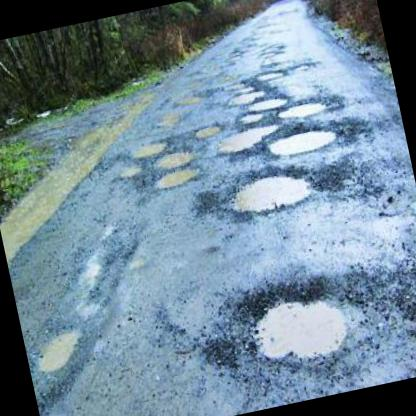pothole: (231, 270, 354, 374), (223, 164, 315, 219), (28, 323, 87, 374), (262, 122, 340, 158), (148, 162, 202, 192), (274, 96, 328, 122), (244, 92, 290, 115), (154, 146, 192, 170), (127, 137, 167, 158), (226, 88, 266, 106), (191, 121, 223, 140), (115, 160, 143, 178), (255, 67, 284, 83)
